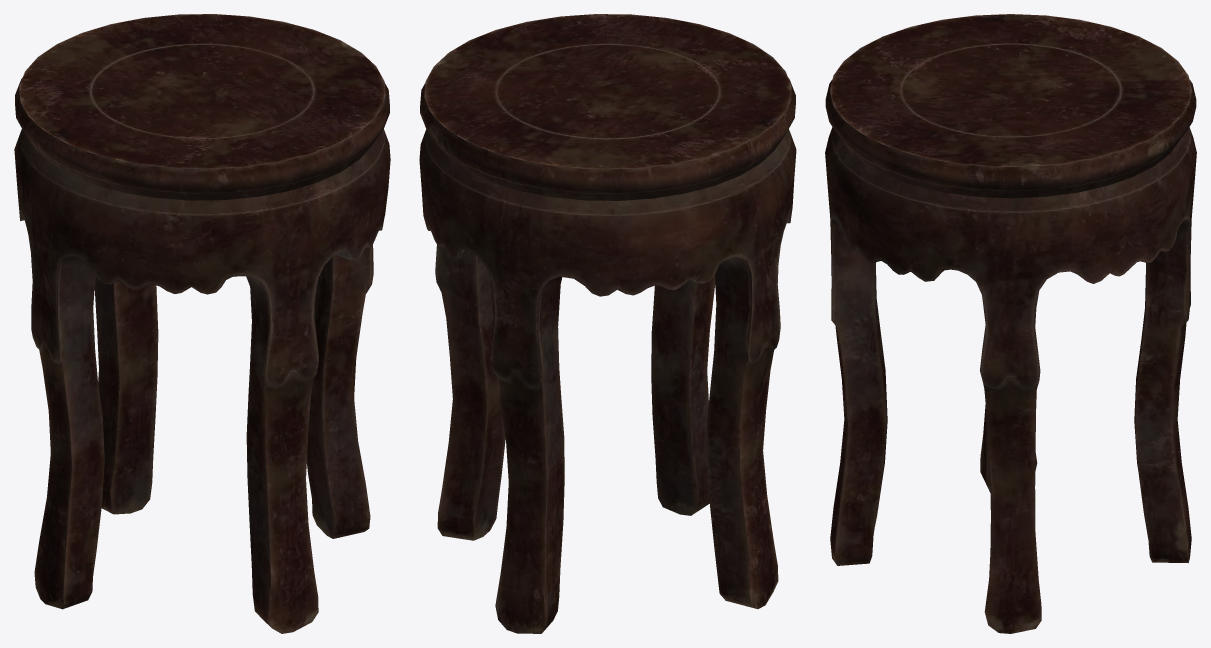
The model's file is ph-WoodenTable_02.glb.
The picture shows the model from 3 angles, left to right: view 1: azimuth 30°, elevation 25°; view 2: azimuth 150°, elevation 25°; view 3: azimuth 270°, elevation 25°; orthographic projection.
Parts seen in each view (by area): view 1: WoodenTable_02; view 2: WoodenTable_02; view 3: WoodenTable_02.
Part boxes in pixels (x1,y1,x2,y2): WoodenTable_02: (14,14,390,633); WoodenTable_02: (419,14,796,633); WoodenTable_02: (825,14,1196,633).
Size of the model in its own units: 0.7199 by 1 by 0.7199.
Materials: 1 (1 with a texture image).
